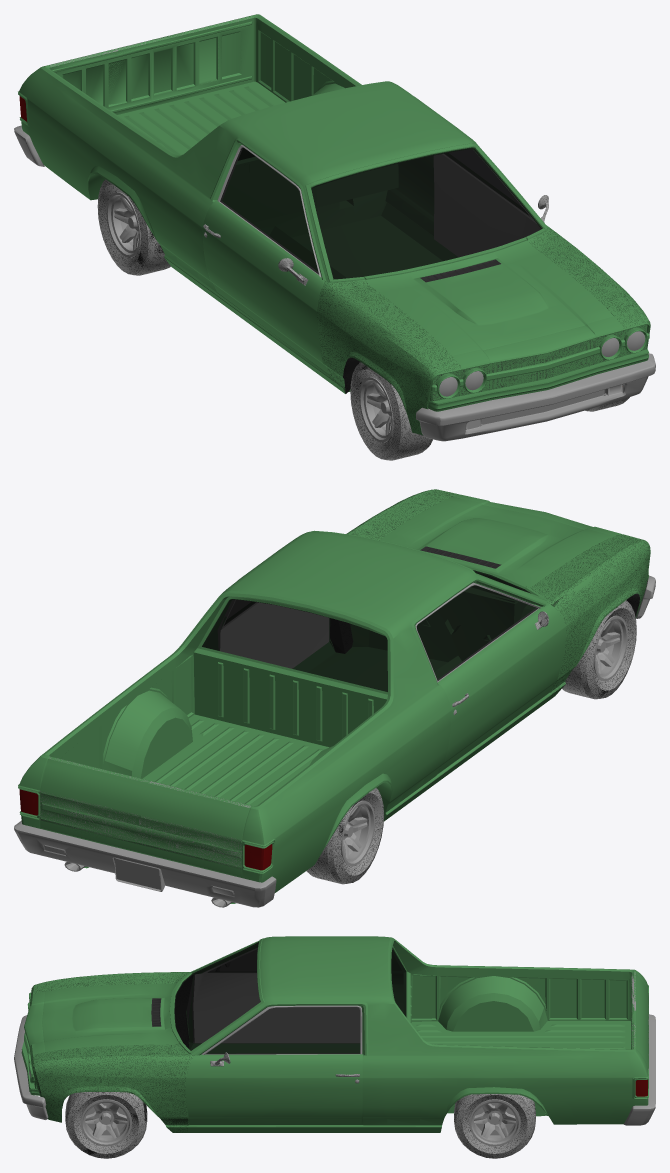
The model's file is Pick-up.FBX.
3 views of the same model, one above another, from view 1: azimuth 30°, elevation 25°; view 2: azimuth 150°, elevation 25°; view 3: azimuth 270°, elevation 25° (orthographic). The views are drawn at different scales.
Parts seen in each view (by area): view 1: Body, Front Window, Right Door, Hood, Rear Trunk, Right Fender, Left Door, Front Bumper, Wheel_FR, Wheel_RR, Left Fender, Lights; view 2: Body, Right Door, Rear Trunk, Hood, Rear Window, Right Fender, Rear Bumper, Left Door, Wheel_FR, Wheel_RR, Left Fender, Lights; view 3: Body, Left Door, Left Fender, Right Door, Hood, Front Window, Wheel_FL, Wheel_RL, Right Fender, Rear Trunk, Front Bumper, Rear Bumper (+1 smaller).
Boxes of the visible parts, x1=… form: Body: x1=18, y1=14, x2=650, y2=411; Front Window: x1=311, y1=148, x2=541, y2=279; Right Door: x1=202, y1=145, x2=328, y2=374; Hood: x1=366, y1=240, x2=613, y2=355; Rear Trunk: x1=48, y1=15, x2=253, y2=114; Right Fender: x1=317, y1=280, x2=460, y2=435; Left Door: x1=434, y1=149, x2=550, y2=256; Front Bumper: x1=416, y1=353, x2=655, y2=441; Wheel_FR: x1=350, y1=362, x2=433, y2=460; Wheel_RR: x1=97, y1=179, x2=170, y2=275; Left Fender: x1=527, y1=227, x2=650, y2=347; Lights: x1=19, y1=96, x2=645, y2=396; Body: x1=18, y1=494, x2=648, y2=903; Right Door: x1=415, y1=582, x2=566, y2=774; Rear Trunk: x1=38, y1=756, x2=253, y2=876; Hood: x1=379, y1=497, x2=613, y2=587; Rear Window: x1=202, y1=599, x2=387, y2=691; Right Fender: x1=529, y1=534, x2=650, y2=702; Rear Bumper: x1=14, y1=820, x2=276, y2=907; Left Door: x1=218, y1=600, x2=328, y2=668; Wheel_FR: x1=562, y1=600, x2=636, y2=699; Wheel_RR: x1=306, y1=788, x2=383, y2=884; Left Fender: x1=330, y1=489, x2=459, y2=653; Lights: x1=19, y1=789, x2=272, y2=870; Body: x1=21, y1=936, x2=648, y2=1132; Left Door: x1=185, y1=1005, x2=362, y2=1124; Left Fender: x1=31, y1=1043, x2=195, y2=1132; Right Door: x1=187, y1=948, x2=359, y2=1042; Hood: x1=42, y1=982, x2=178, y2=1051; Front Window: x1=174, y1=942, x2=260, y2=1050; Wheel_FL: x1=65, y1=1092, x2=147, y2=1158; Wheel_RL: x1=454, y1=1094, x2=535, y2=1158; Right Fender: x1=31, y1=972, x2=192, y2=1048; Rear Trunk: x1=631, y1=972, x2=648, y2=1069; Front Bumper: x1=14, y1=1015, x2=48, y2=1119; Rear Bumper: x1=623, y1=1014, x2=655, y2=1125.
Size of the model in its own units: 256 by 181 by 685.
